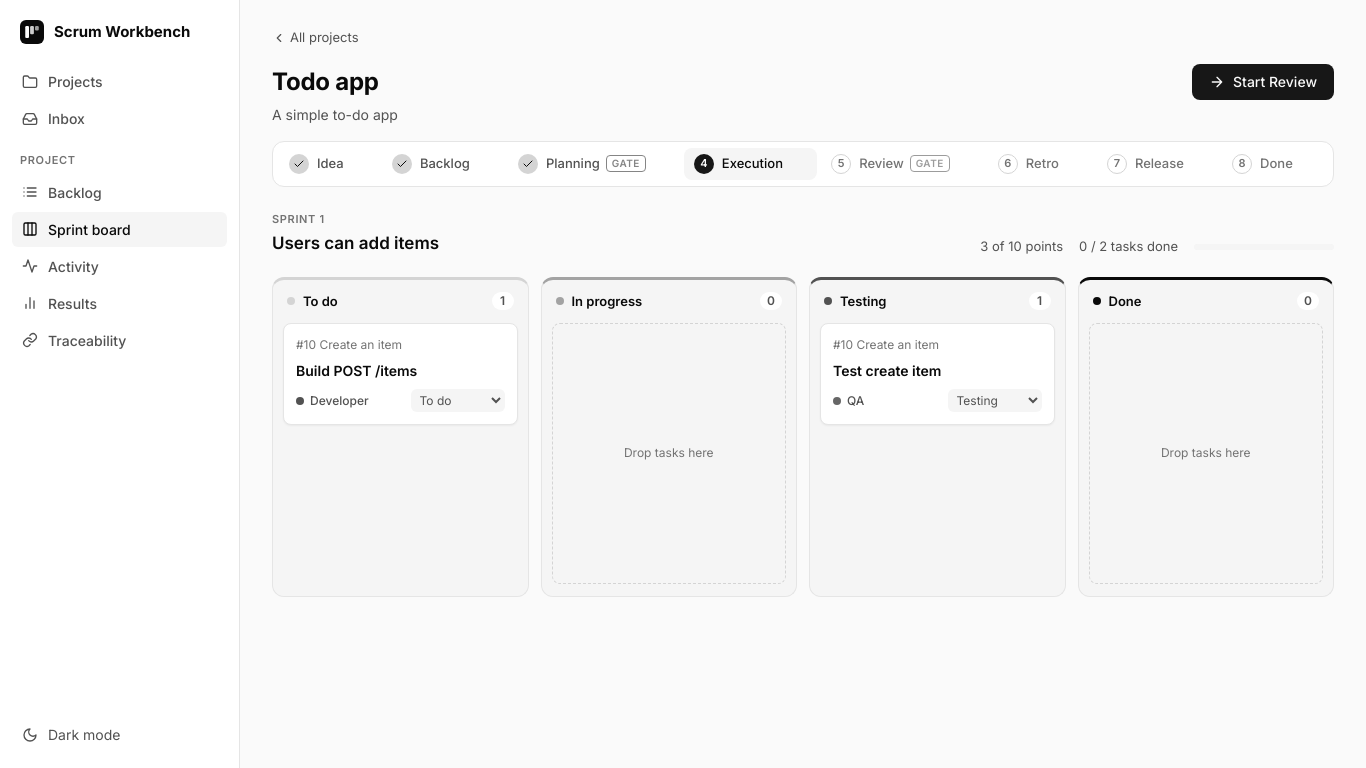
Test case: BoardPage › moves the card back and explains when saving fails
Select "In progress" in the dropdown named "Status of \"Build POST /items\"". click: (458, 400)
box: [410, 389, 504, 412]
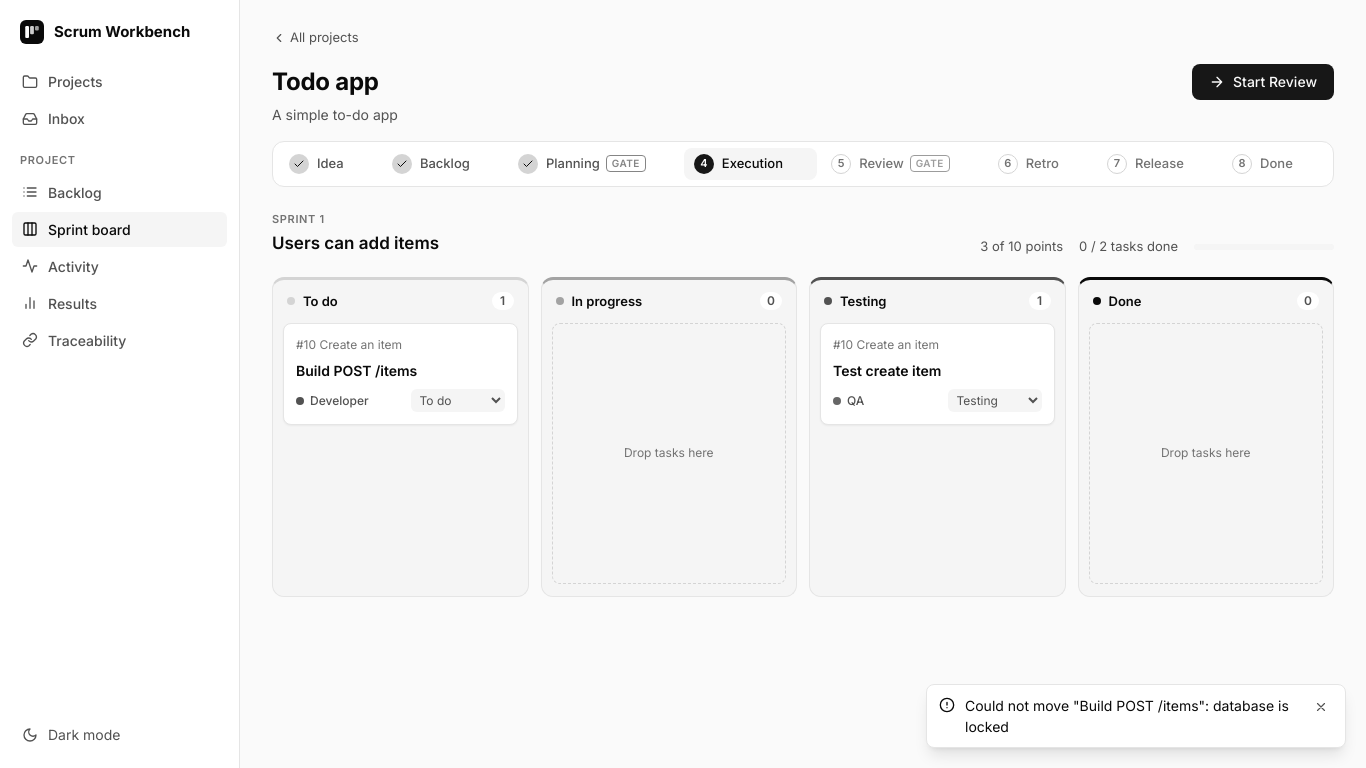
Expected: the text "Build POST /items" is shown, [296, 362, 417, 379]
Expected: the message shows "database is locked", [965, 697, 1289, 735]
